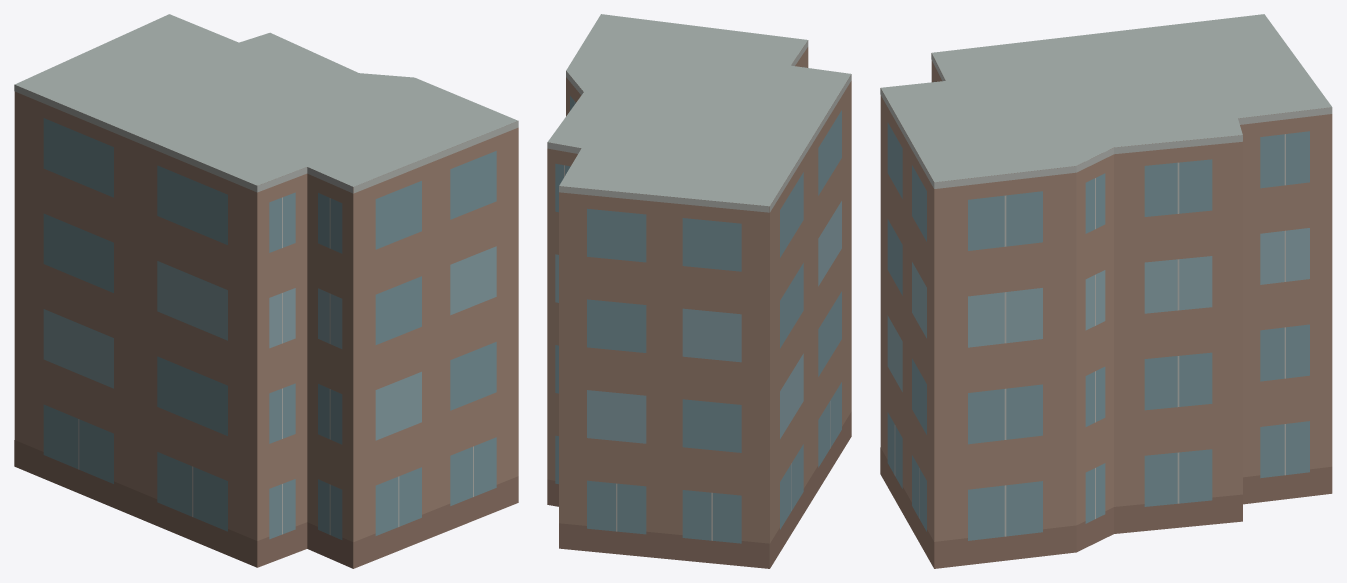
Rendered from survey-upis-32784162.glb.
The picture shows the model from 3 angles, left to right: view 1: azimuth 30°, elevation 25°; view 2: azimuth 150°, elevation 25°; view 3: azimuth 270°, elevation 25°; orthographic projection. The views are drawn at different scales.
Visible parts, largest first — view 1: survey-upis-32784162.tmp; view 2: survey-upis-32784162.tmp; view 3: survey-upis-32784162.tmp.
Part boxes in pixels (x1,y1,x2,y2): survey-upis-32784162.tmp: (14,14,518,568); survey-upis-32784162.tmp: (547,14,851,568); survey-upis-32784162.tmp: (880,14,1332,568).
Size of the model in its own units: 13 by 13.9 by 14.74.
